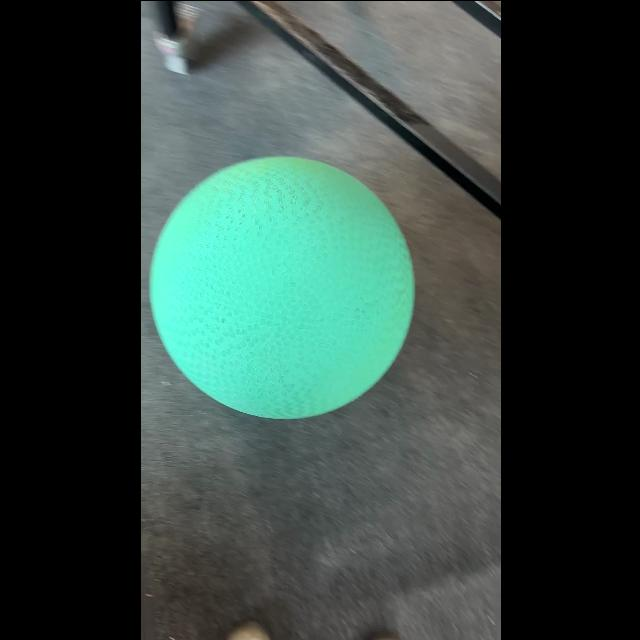ALGAE: (147, 154, 415, 420)
